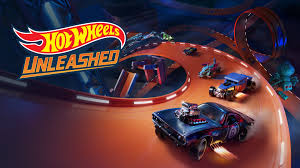Car: (149, 88, 260, 168), (209, 72, 255, 101), (197, 57, 218, 79), (184, 47, 197, 56)
